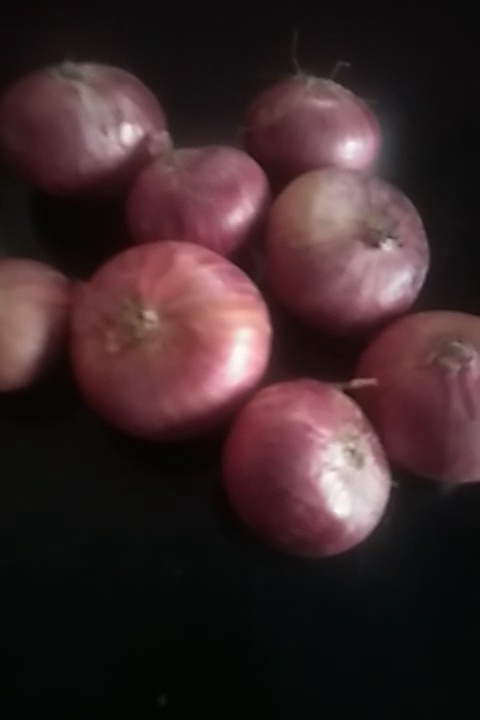onion: (77, 237, 272, 428), (222, 371, 408, 561), (345, 307, 480, 488), (275, 162, 420, 325), (12, 68, 172, 183), (125, 140, 262, 251), (240, 78, 408, 162), (1, 250, 77, 392)
